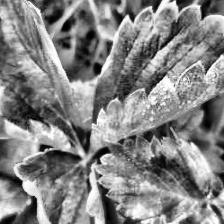Powdery Mildew Leaf: (87, 1, 224, 157), (0, 0, 86, 155), (13, 147, 108, 224)
